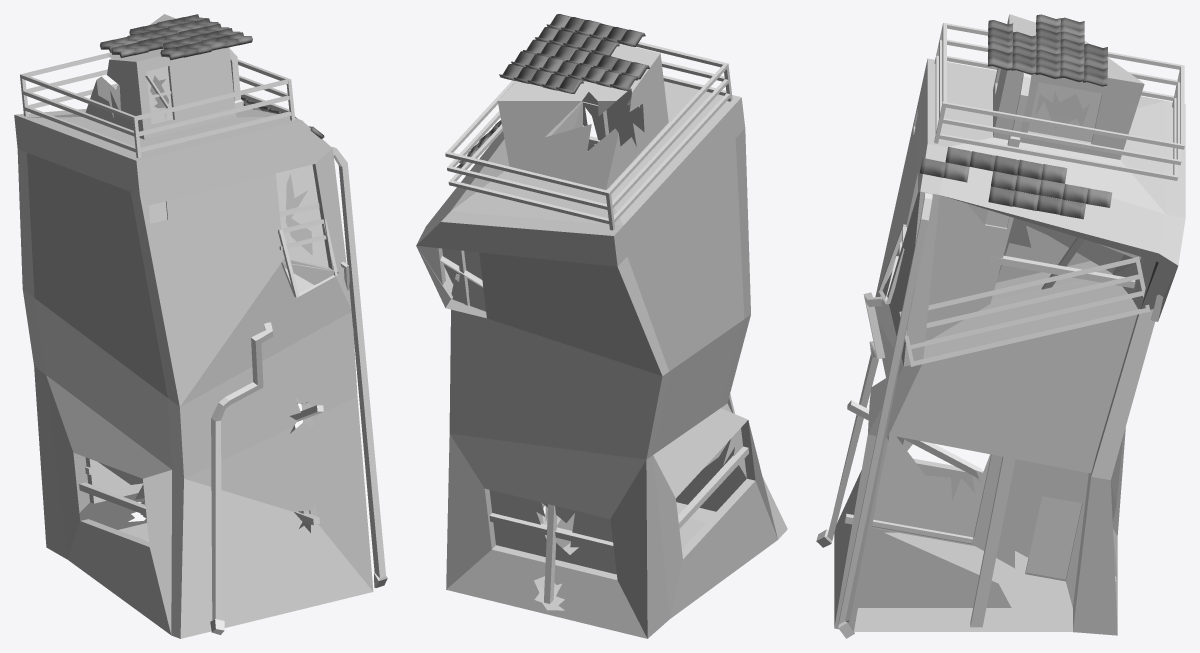
The model's file is Casa3DestruidaVer1.fbx.
3 renders of one model, left to right at view 1: azimuth 30°, elevation 25°; view 2: azimuth 150°, elevation 25°; view 3: azimuth 270°, elevation 25°, orthographic. The views are drawn at different scales.
Visible parts, largest first — view 1: Casa3DestruidaVer1; view 2: Casa3DestruidaVer1; view 3: Casa3DestruidaVer1.
Part boxes in pixels (box(x1,y1,x2,y2)): Casa3DestruidaVer1: box(14, 14, 387, 638); Casa3DestruidaVer1: box(416, 14, 787, 638); Casa3DestruidaVer1: box(816, 14, 1185, 638).
Size of the model in its own units: 983 by 2142 by 1304.
